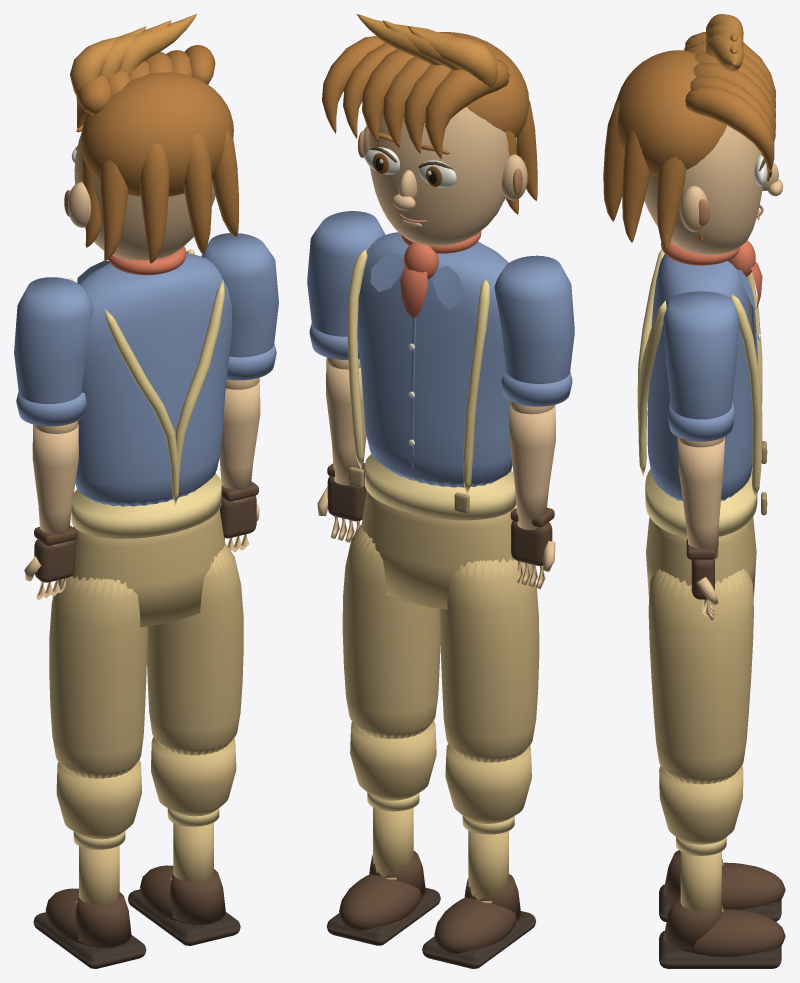
The model's file is character-before.glb.
3 renders of one model, left to right at view 1: azimuth 30°, elevation 25°; view 2: azimuth 150°, elevation 25°; view 3: azimuth 270°, elevation 25°, orthographic.
Visible parts, largest first — view 1: Torso_Geometry, Head_Geometry, LegL_Geometry, Root_Geometry, LegR_Geometry, Knee.001_Geometry, Knee_Geometry, ArmL_Geometry, ArmR_Geometry, Forearm, Forearm.001, Hand_Geometry (+1 smaller); view 2: Torso_Geometry, Head_Geometry, LegL_Geometry, LegR_Geometry, Root_Geometry, Knee.001_Geometry, Knee_Geometry, ArmL_Geometry, ArmR_Geometry, Forearm, Forearm.001, Hand_Geometry (+1 smaller); view 3: Head_Geometry, LegR_Geometry, Torso_Geometry, Knee.001_Geometry, ArmR_Geometry, Root_Geometry, Forearm.001, Knee_Geometry, Hand.001_Geometry.
Boxes of the visible parts, box(x1,y1,x2,y2) form: Torso_Geometry: box(68, 246, 232, 506); Head_Geometry: box(64, 14, 238, 263); LegL_Geometry: box(49, 576, 147, 778); Root_Geometry: box(71, 473, 225, 627); LegR_Geometry: box(147, 543, 243, 755); Knee.001_Geometry: box(127, 737, 240, 945); Knee_Geometry: box(33, 760, 146, 968); ArmL_Geometry: box(14, 277, 93, 433); ArmR_Geometry: box(201, 233, 278, 389); Forearm: box(32, 424, 78, 546); Forearm.001: box(219, 379, 260, 502); Hand_Geometry: box(24, 525, 77, 599); Torso_Geometry: box(347, 231, 512, 513); Head_Geometry: box(322, 14, 537, 245); LegL_Geometry: box(439, 558, 539, 762); LegR_Geometry: box(342, 524, 440, 738); Root_Geometry: box(361, 454, 516, 609); Knee.001_Geometry: box(326, 720, 440, 945); Knee_Geometry: box(422, 744, 536, 968); ArmL_Geometry: box(494, 255, 574, 414); ArmR_Geometry: box(307, 211, 385, 369); Forearm: box(509, 404, 555, 529); Forearm.001: box(326, 359, 366, 485); Hand_Geometry: box(510, 507, 555, 589); Head_Geometry: box(603, 14, 783, 254); LegR_Geometry: box(648, 569, 753, 784); Torso_Geometry: box(637, 240, 767, 515); Knee.001_Geometry: box(659, 766, 785, 968); ArmR_Geometry: box(663, 291, 739, 447); Root_Geometry: box(645, 469, 757, 598); Forearm.001: box(677, 437, 724, 559); Knee_Geometry: box(659, 850, 785, 922); Hand.001_Geometry: box(686, 538, 718, 620).
Bounding box in the file's own units: 0.566 × 1.89 × 0.3458.
